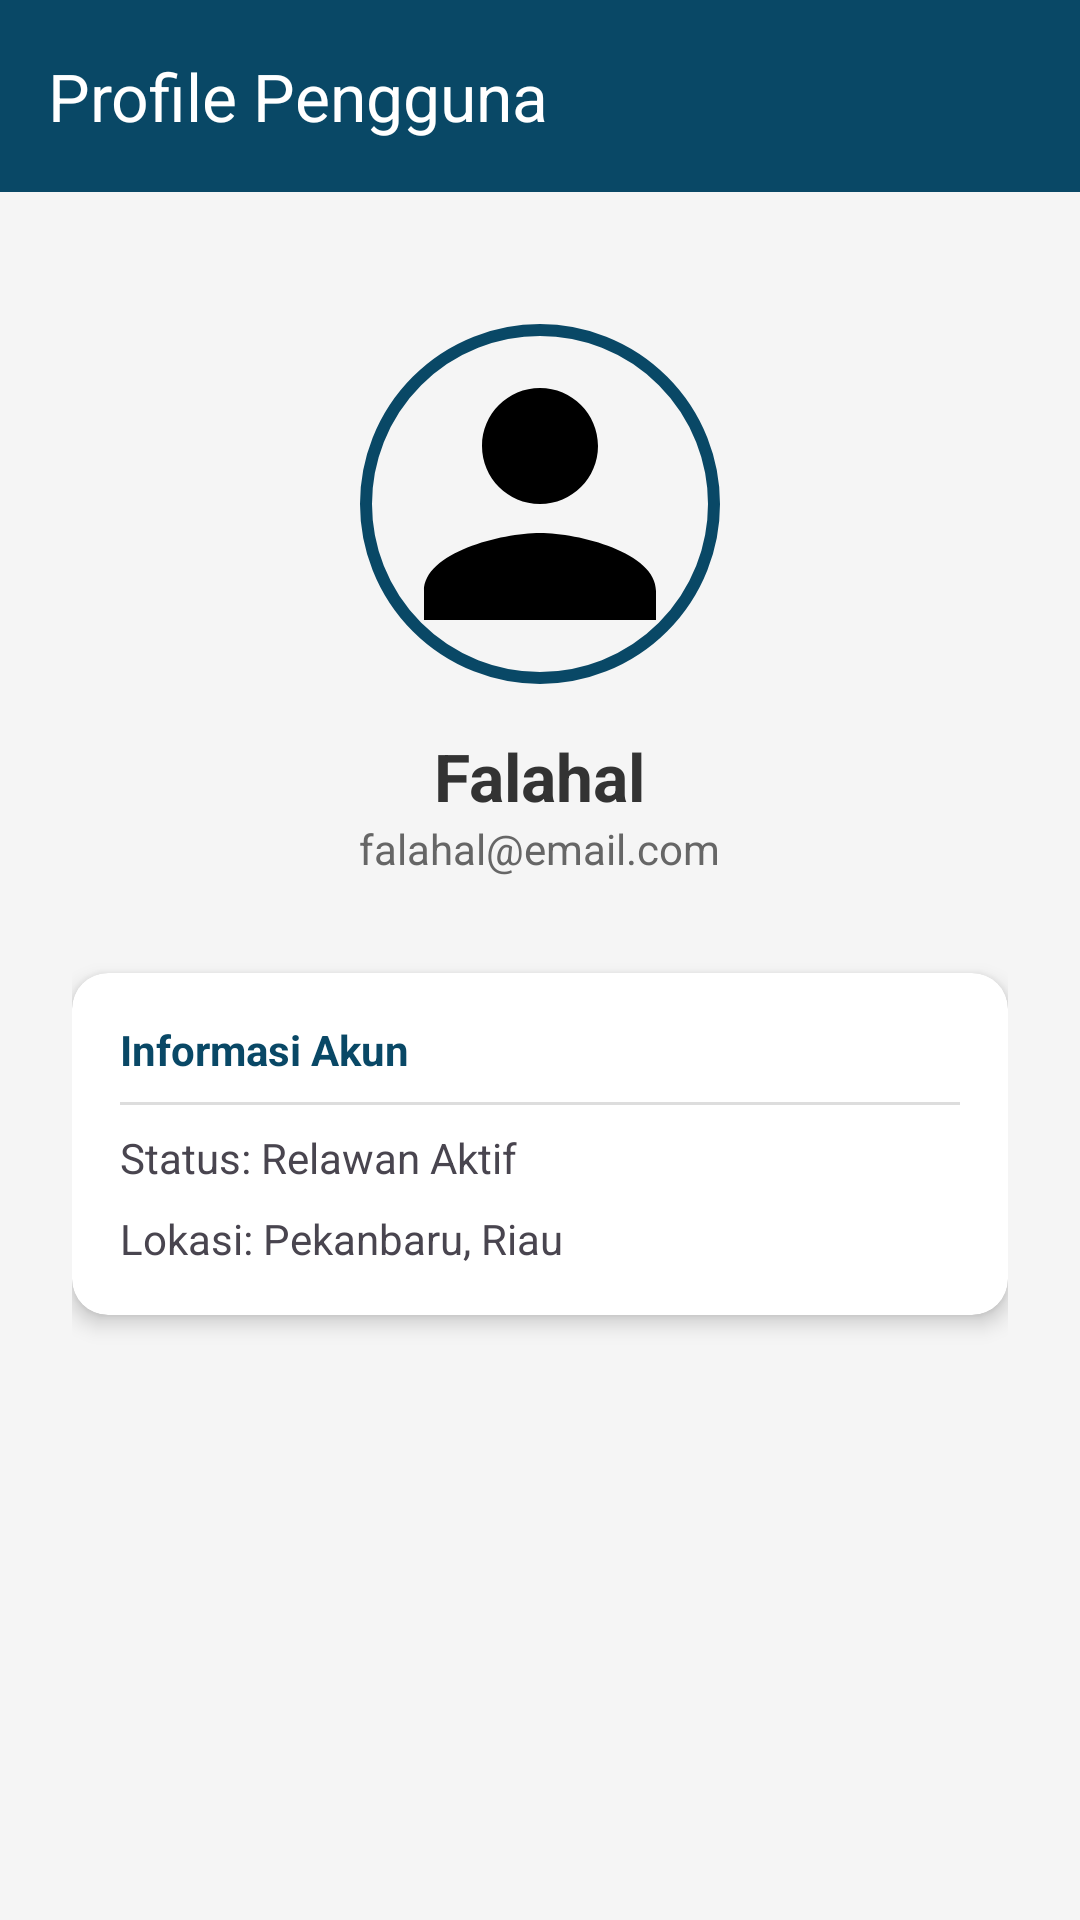

Named icons in this screenshot (1080px×1920px) and their centers, (x,y):
profile: (540,504)
